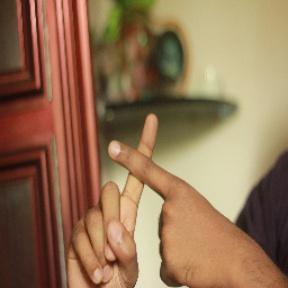X: (83, 110, 211, 239)
